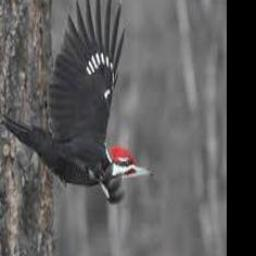Woodpecker: (0, 0, 154, 203)
